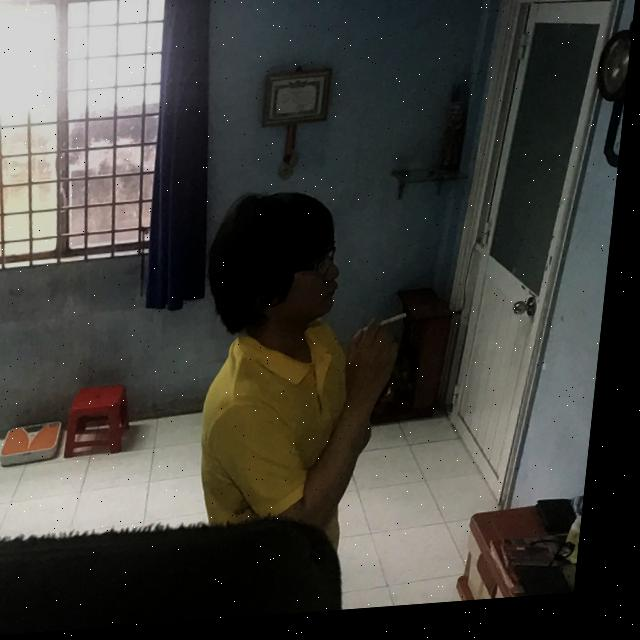cigarette: (370, 319, 414, 338)
